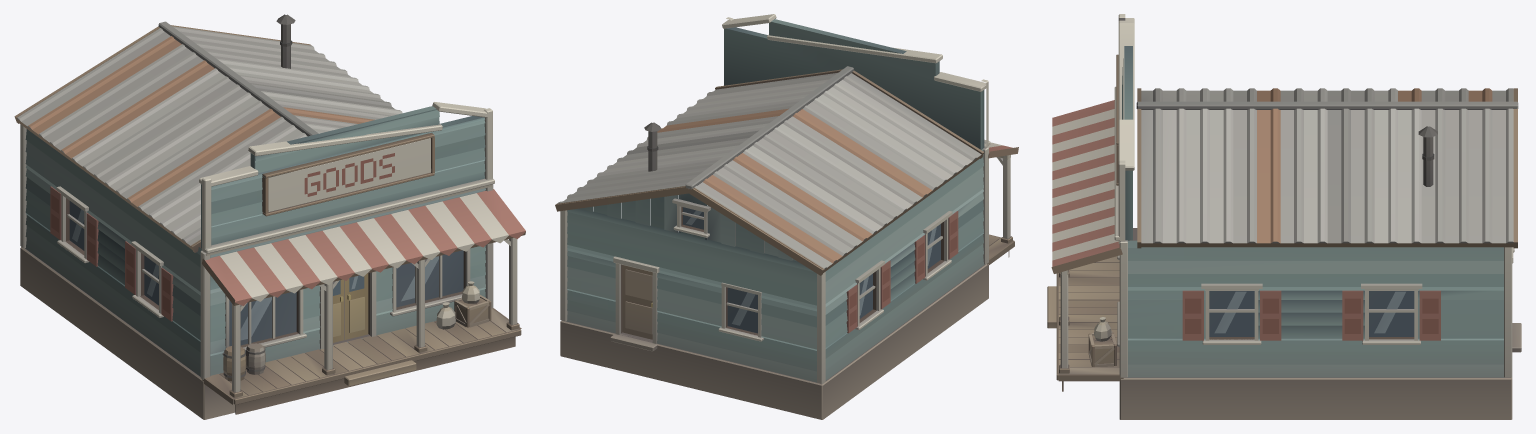
File: house_1.glb
The picture shows the model from 3 angles, left to right: view 1: azimuth 30°, elevation 25°; view 2: azimuth 150°, elevation 25°; view 3: azimuth 270°, elevation 25°; orthographic projection. The views are drawn at different scales.
Size of the model in its own units: 8.67 by 7.18 by 11.29.
